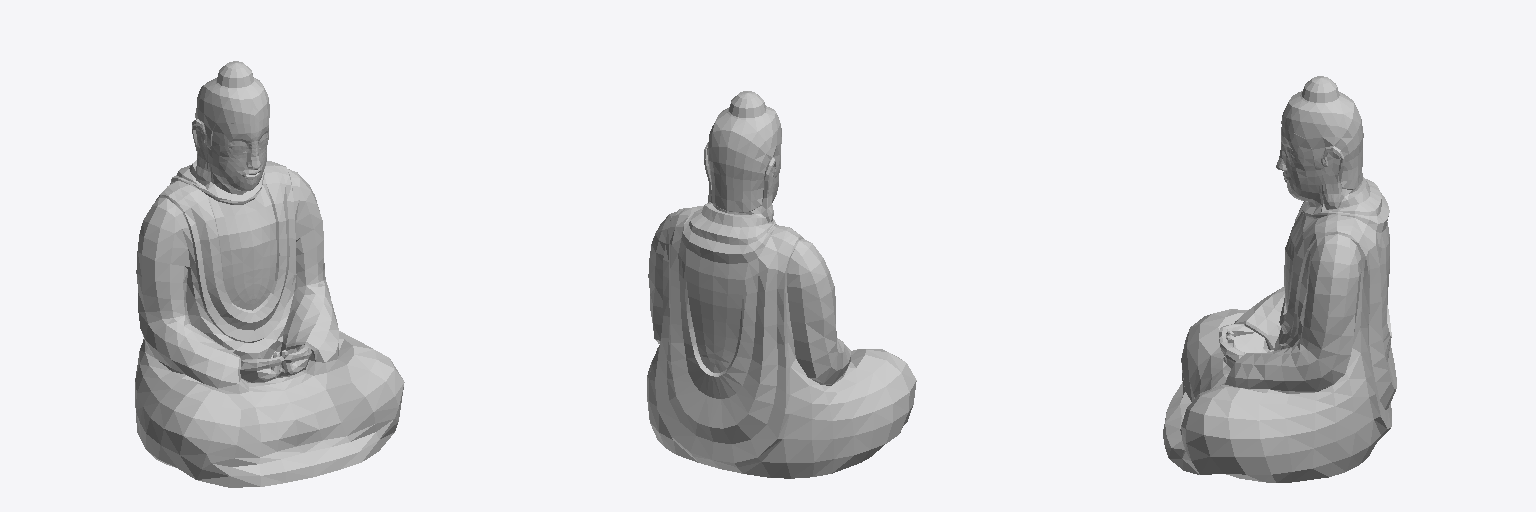
Rendered from statue.obj.
3 renders of one model, left to right at view 1: azimuth 30°, elevation 25°; view 2: azimuth 150°, elevation 25°; view 3: azimuth 270°, elevation 25°, orthographic.
Parts seen in each view (by area): view 1: Buddha_Statue; view 2: Buddha_Statue; view 3: Buddha_Statue.
Boxes of the visible parts, <box> form: Buddha_Statue: <box>135,61,404,487</box>; Buddha_Statue: <box>647,91,916,478</box>; Buddha_Statue: <box>1163,76,1396,482</box>.
Bounding box in the file's own units: 0.8308 × 1.2 × 0.715.